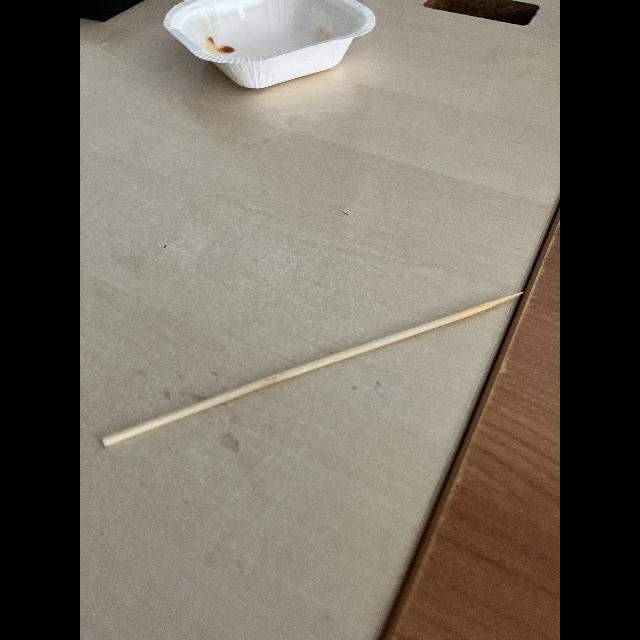cardboard_bowl: (154, 1, 388, 118)
stick: (100, 278, 528, 478)
